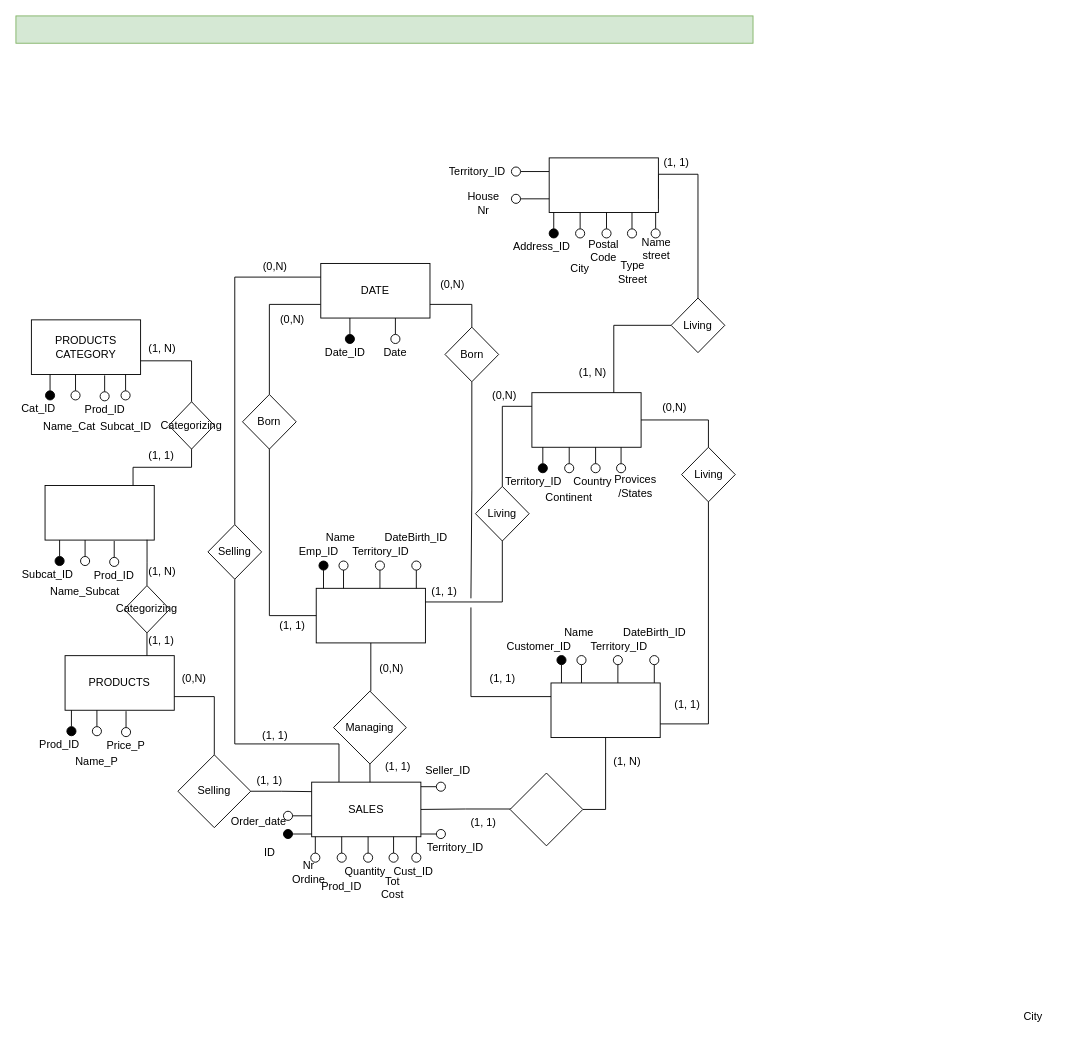
The diagram is 1066 pixels wide and 1042 high, and some of its shapes have lost their labels. Each missing label, with the centre of its shape:
ADRESS: (603,184)
Buying: (546,809)
CUSTOMERS: (605,710)
E-SELLER: (370,615)
Modello concettuale Entity/Relation: (384,29)
PRODUCTS SUBCATEGORY: (99,512)
TERRITORY: (586,419)
